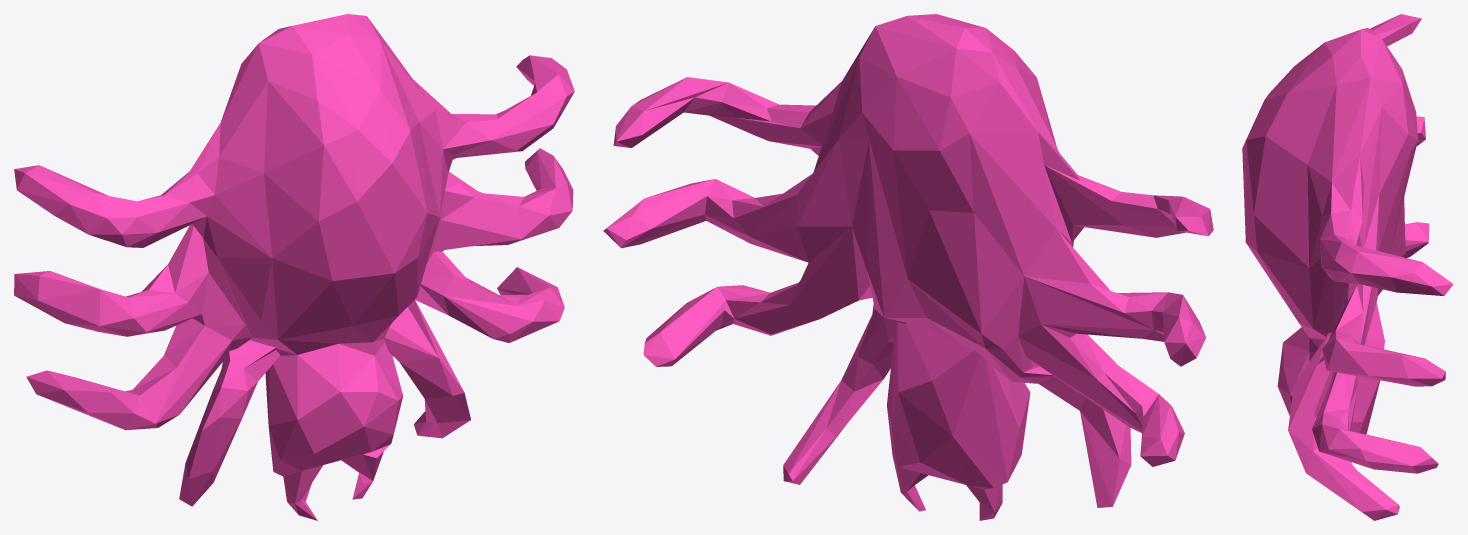
Rendered from aranya2_000001.obj.
The picture shows the model from 3 angles, left to right: view 1: azimuth 30°, elevation 25°; view 2: azimuth 150°, elevation 25°; view 3: azimuth 270°, elevation 25°; orthographic projection. The views are drawn at different scales.
Parts seen in each view (by area): view 1: Cube; view 2: Cube; view 3: Cube.
Boxes of the visible parts, left/top/right/bottom form: Cube: left=14, top=14, right=574, bottom=520; Cube: left=603, top=14, right=1213, bottom=520; Cube: left=1242, top=14, right=1453, bottom=520.
Size of the model in its own units: 20.25 by 16.86 by 7.28.
Materials: 1 (1 with a texture image).
